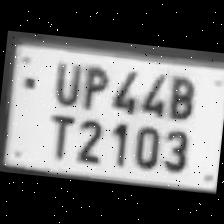0: (128, 116, 164, 168)
1: (102, 114, 132, 167)
2: (70, 111, 106, 164)
3: (157, 120, 194, 174)
4: (106, 60, 143, 116), (136, 65, 169, 115)
B: (163, 68, 200, 118)
P: (76, 59, 111, 111)
T: (40, 106, 78, 161)
U: (47, 55, 84, 105)
